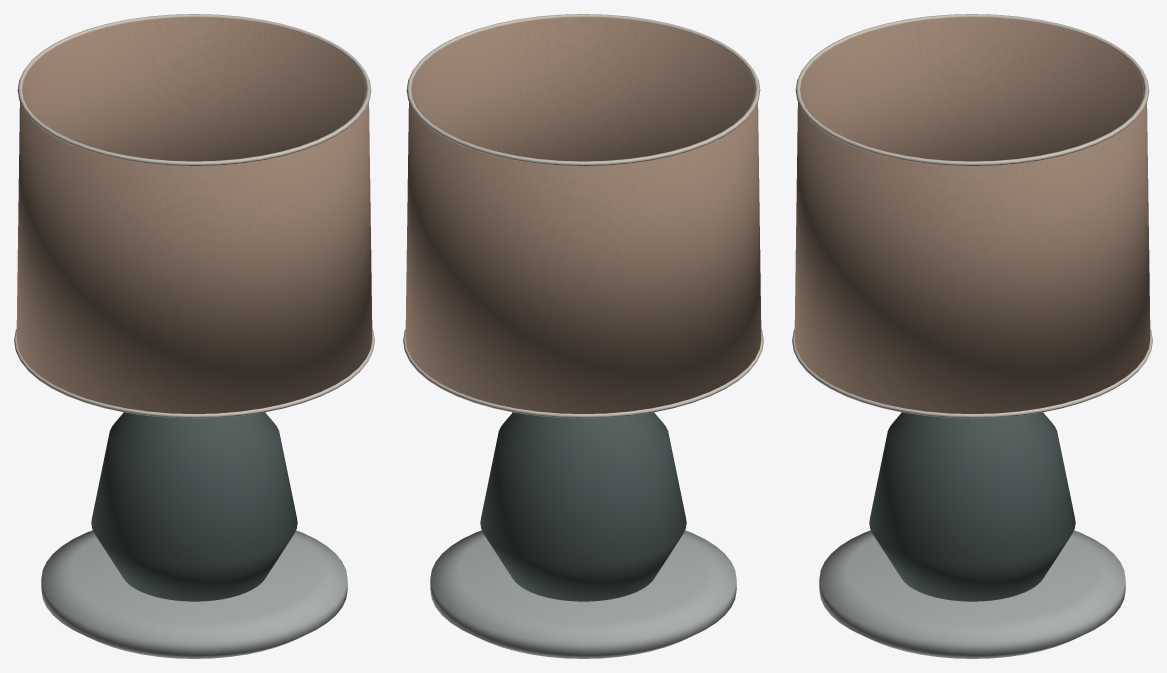
The model's file is modern.table_lamp.gltf.
The picture shows the model from 3 angles, left to right: view 1: azimuth 30°, elevation 25°; view 2: azimuth 150°, elevation 25°; view 3: azimuth 270°, elevation 25°; orthographic projection.
Visible parts, largest first — view 1: modern.table_lamp.foot; view 2: modern.table_lamp.foot; view 3: modern.table_lamp.foot.
Boxes of the visible parts, x1,y1,x2,y2 form: modern.table_lamp.foot: [14, 14, 374, 658]; modern.table_lamp.foot: [403, 14, 763, 658]; modern.table_lamp.foot: [792, 14, 1152, 658].
Bounding box in the file's own units: 0.294 × 0.4617 × 0.294.
5 materials, 1 textured.
